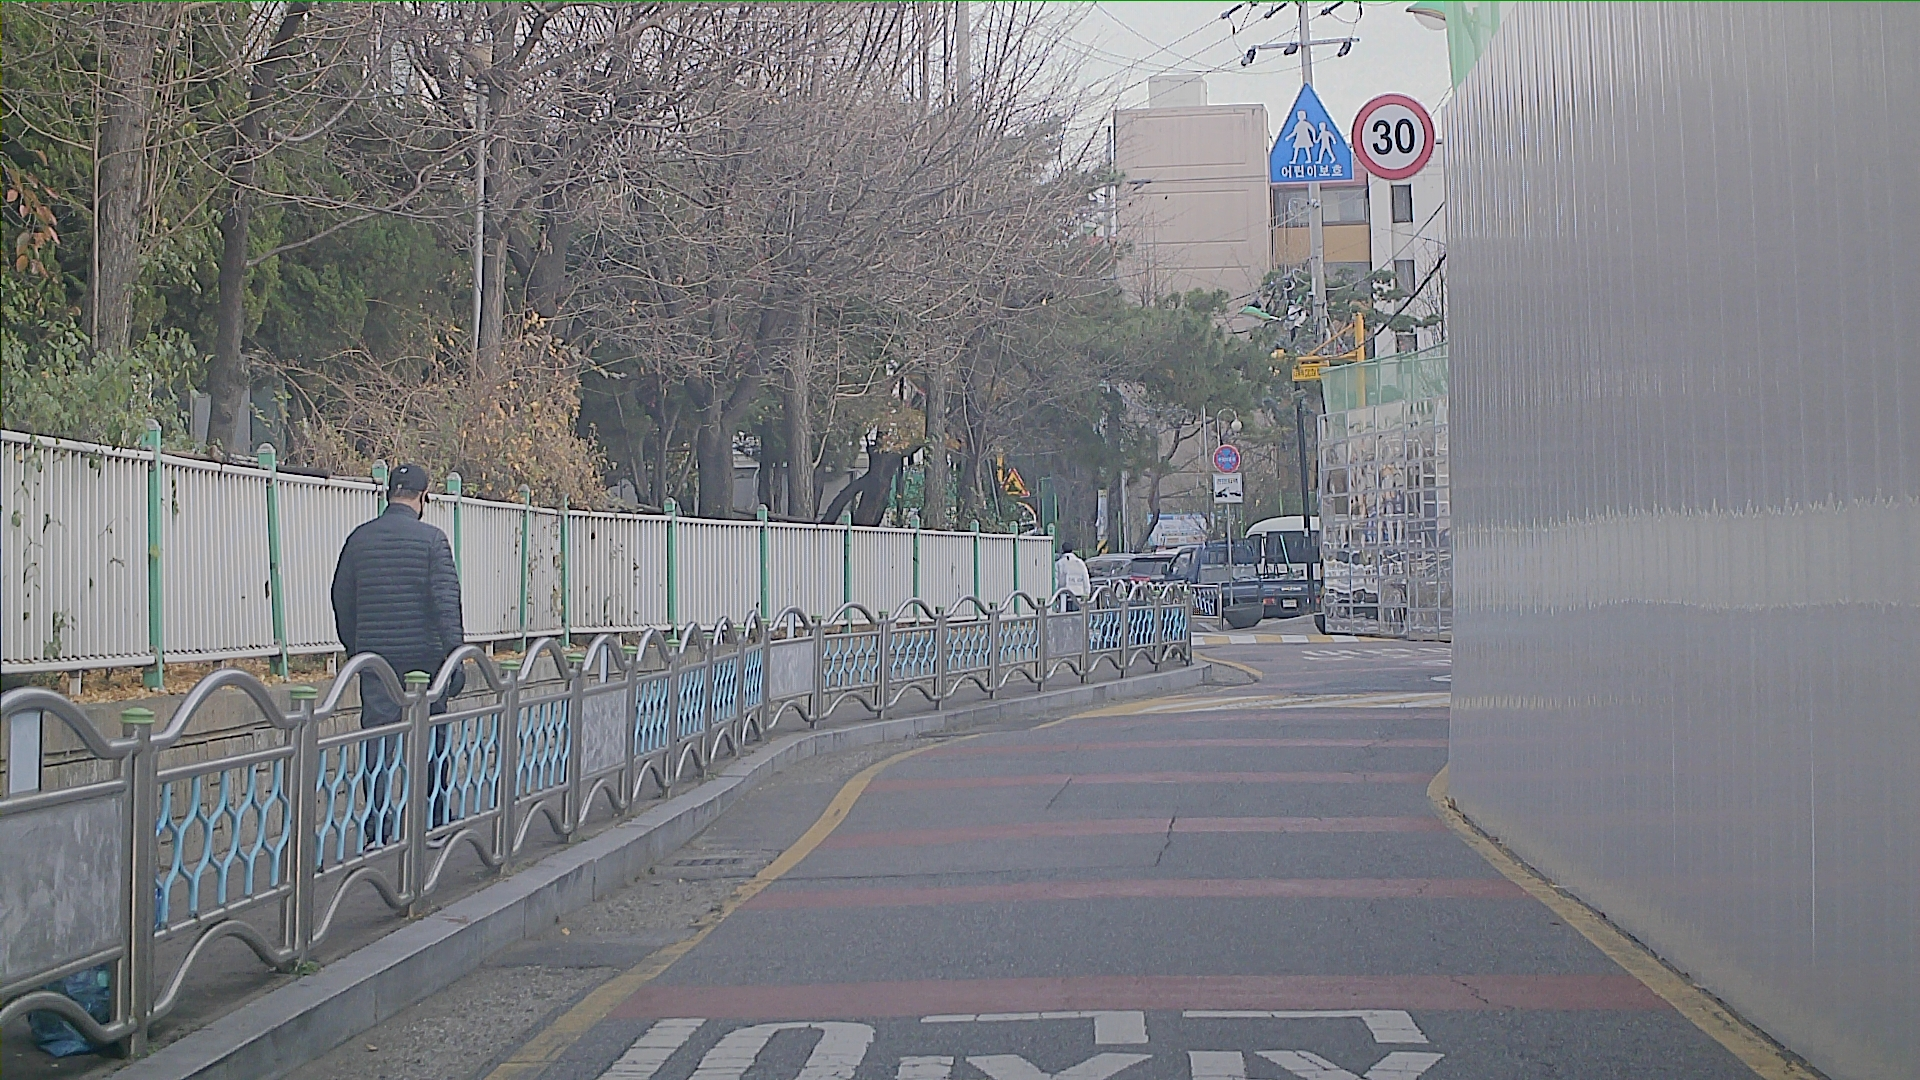trafficSignCircle: (1353, 96, 1435, 179), (1211, 444, 1240, 472)
trafficSignTri: (1266, 83, 1349, 185)
